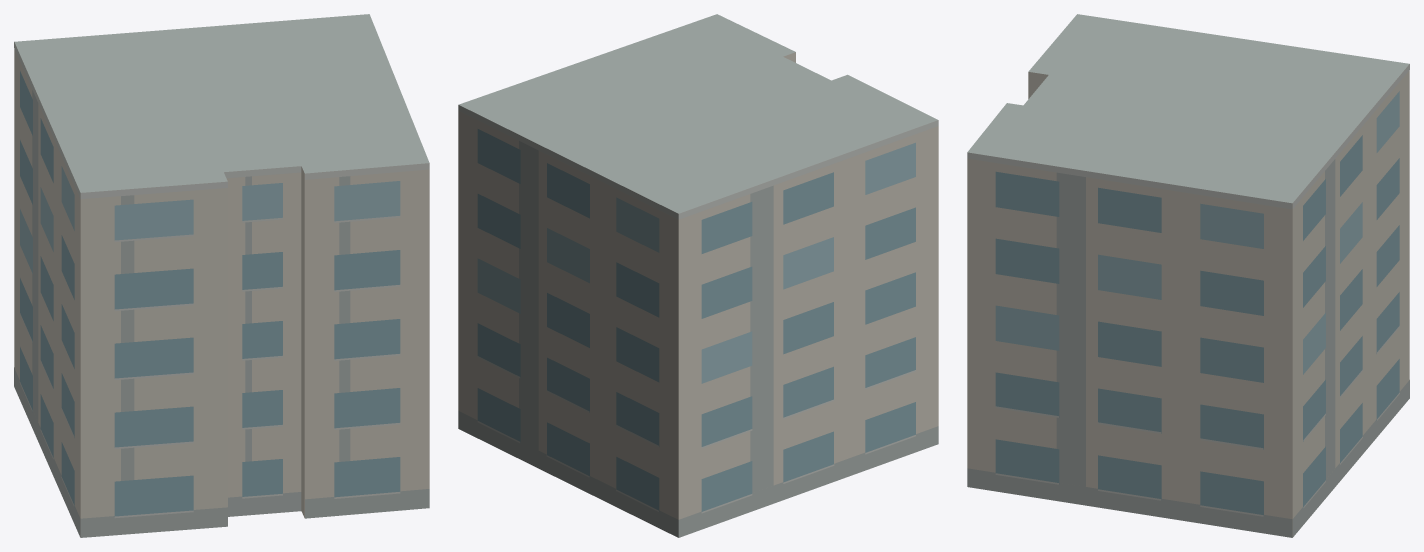
File: survey-upis-32851880.glb
The picture shows the model from 3 angles, left to right: view 1: azimuth 30°, elevation 25°; view 2: azimuth 150°, elevation 25°; view 3: azimuth 270°, elevation 25°; orthographic projection. The views are drawn at different scales.
Parts seen in each view (by area): view 1: survey-upis-32851880.tmp; view 2: survey-upis-32851880.tmp; view 3: survey-upis-32851880.tmp.
Part boxes in pixels (x1,y1,x2,y2): survey-upis-32851880.tmp: (14,14,429,537); survey-upis-32851880.tmp: (458,14,938,537); survey-upis-32851880.tmp: (967,14,1409,537).
Size of the model in its own units: 16.03 by 13.2 by 15.83.
